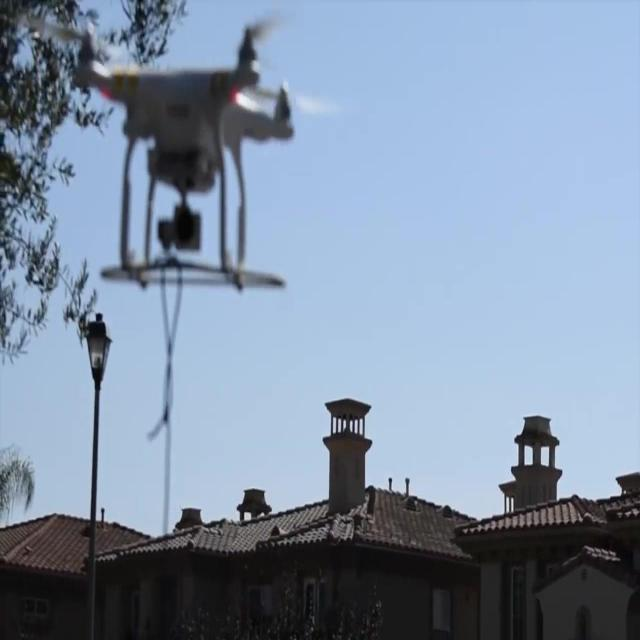UAV: (11, 0, 339, 292)
